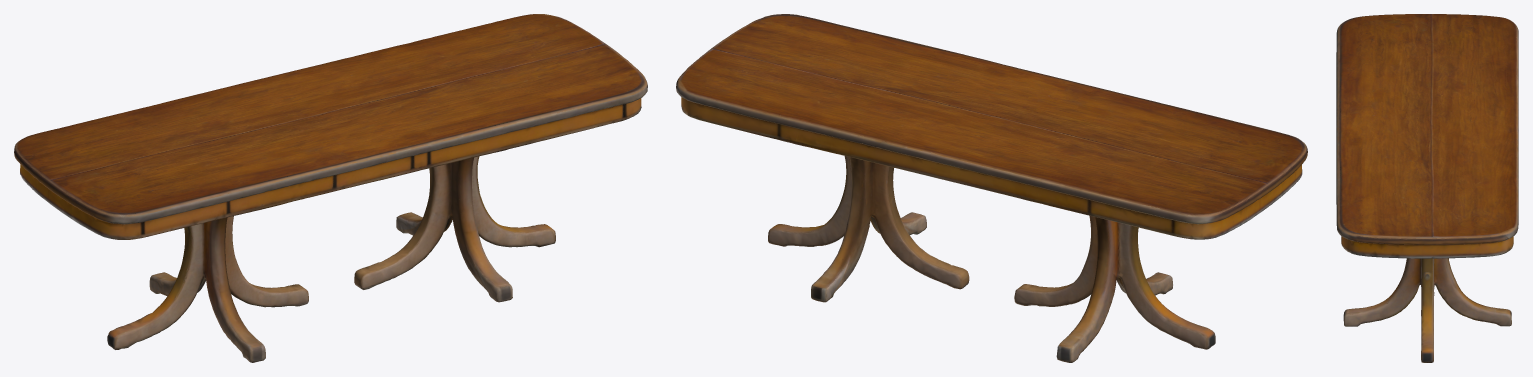
3 views of the same model, side by side, from view 1: azimuth 30°, elevation 25°; view 2: azimuth 150°, elevation 25°; view 3: azimuth 270°, elevation 25° (orthographic). The views are drawn at different scales.
Size of the model in its own units: 2.01 by 0.6209 by 0.6867.
Materials: 1 (1 with a texture image).
